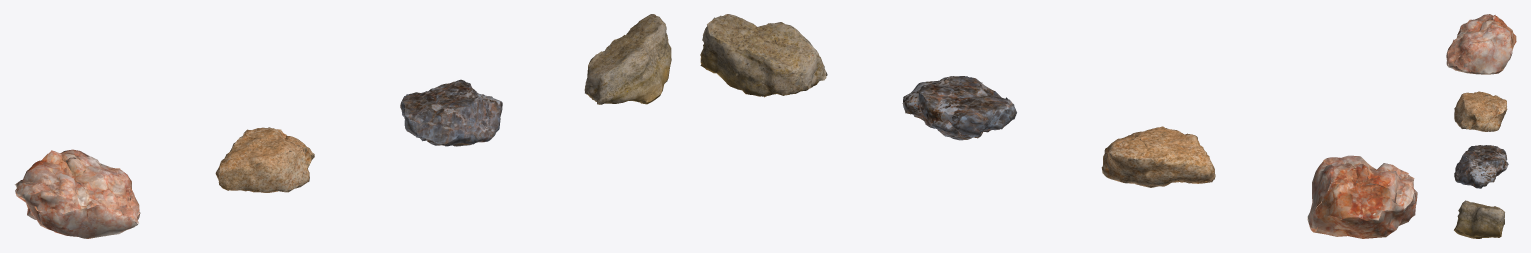
The model's file is cobbles.glb.
3 renders of one model, left to right at view 1: azimuth 30°, elevation 25°; view 2: azimuth 150°, elevation 25°; view 3: azimuth 270°, elevation 25°, orthographic. The views are drawn at different scales.
Visible parts, largest first — view 1: namaqualand_rocks_02_a, namaqualand_rocks_02_d, namaqualand_rocks_02_c, namaqualand_rocks_02_b; view 2: namaqualand_rocks_02_d, namaqualand_rocks_02_a, namaqualand_rocks_02_b, namaqualand_rocks_02_c; view 3: namaqualand_rocks_02_a, namaqualand_rocks_02_b, namaqualand_rocks_02_c, namaqualand_rocks_02_d.
Boxes of the visible parts, x1,y1,x2,y2 form: namaqualand_rocks_02_a: [15, 149, 140, 238]; namaqualand_rocks_02_d: [584, 14, 671, 104]; namaqualand_rocks_02_c: [400, 79, 502, 146]; namaqualand_rocks_02_b: [215, 127, 314, 192]; namaqualand_rocks_02_d: [700, 14, 827, 97]; namaqualand_rocks_02_a: [1307, 155, 1417, 238]; namaqualand_rocks_02_b: [1101, 126, 1215, 187]; namaqualand_rocks_02_c: [902, 76, 1016, 140]; namaqualand_rocks_02_a: [1446, 14, 1516, 74]; namaqualand_rocks_02_b: [1454, 91, 1507, 131]; namaqualand_rocks_02_c: [1454, 145, 1508, 188]; namaqualand_rocks_02_d: [1454, 200, 1504, 238].
Bounding box in the file's own units: 1.45 × 0.1533 × 0.216.
1 material, 1 textured.
